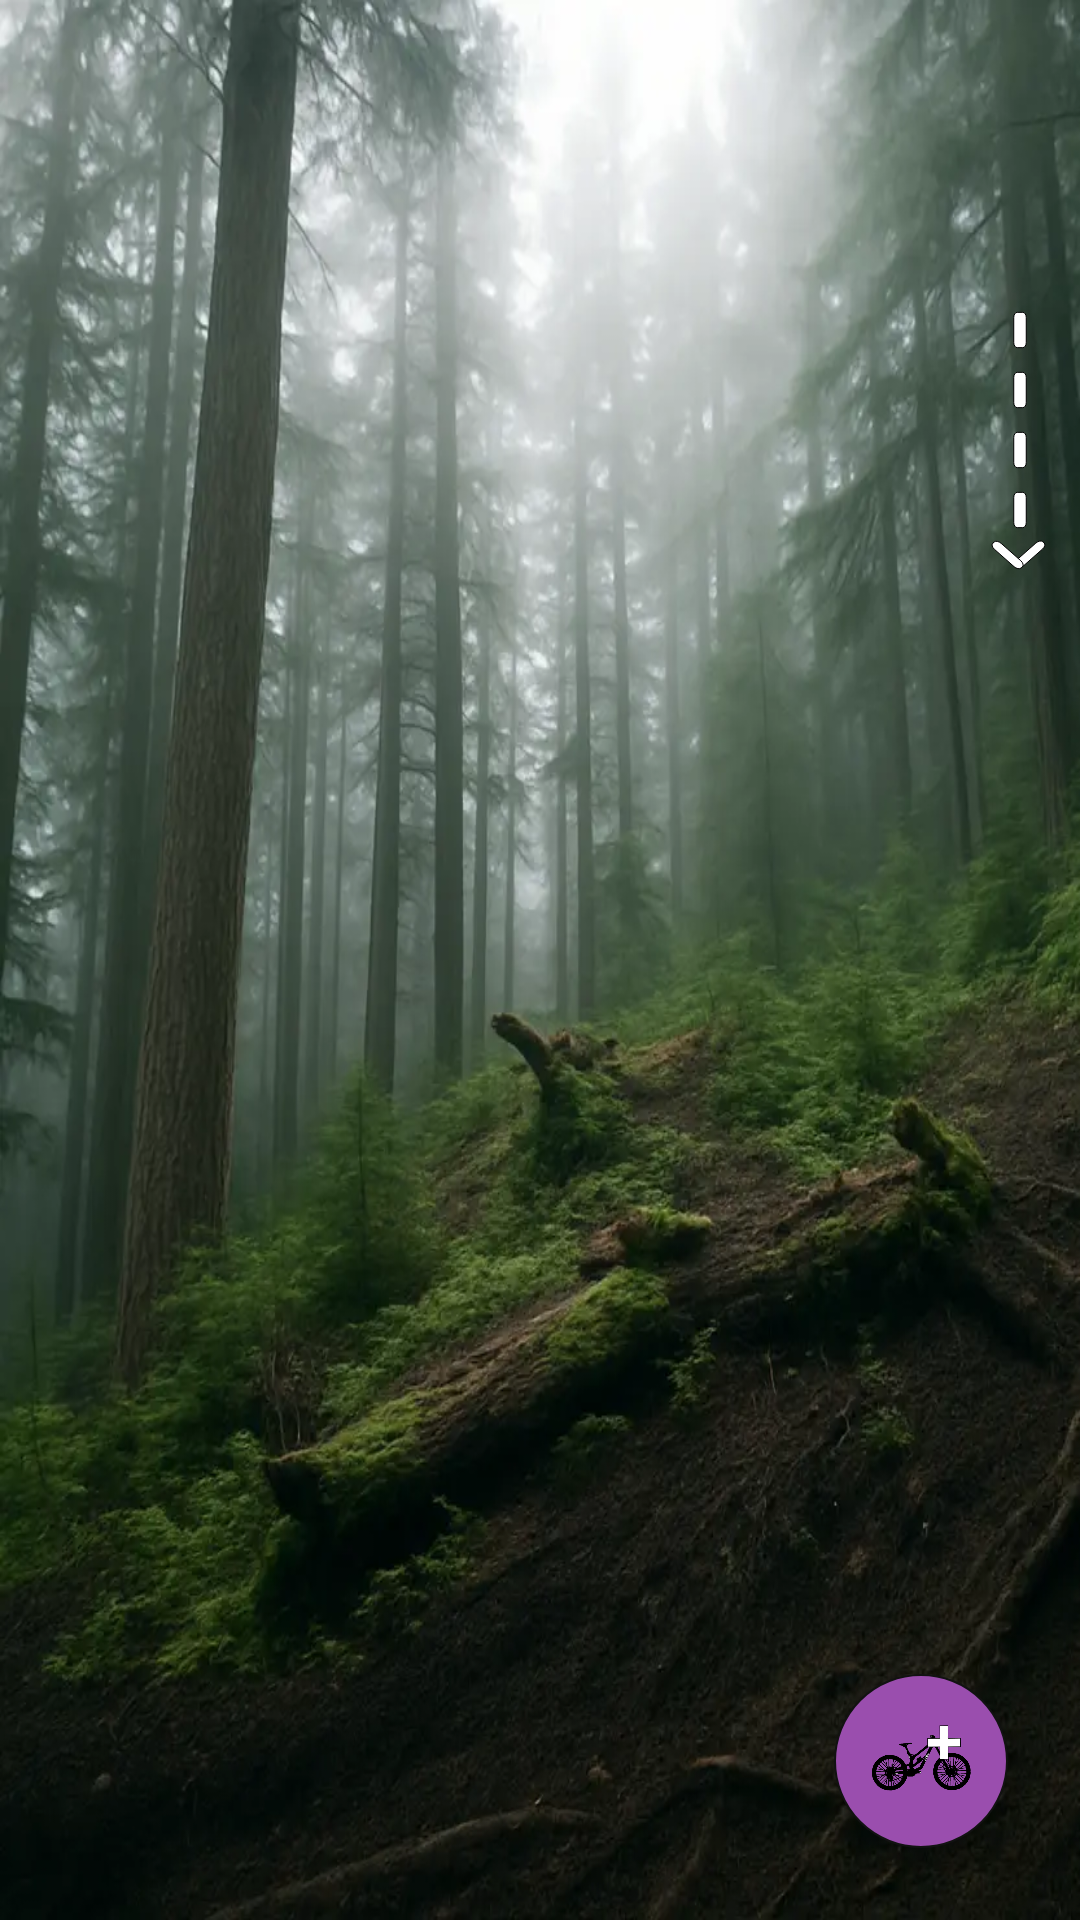

Icons on this 1080w x 1920h Android screen, each with its box as (x1, y1, x2, y2):
add bike: (834, 1676, 1006, 1846)
